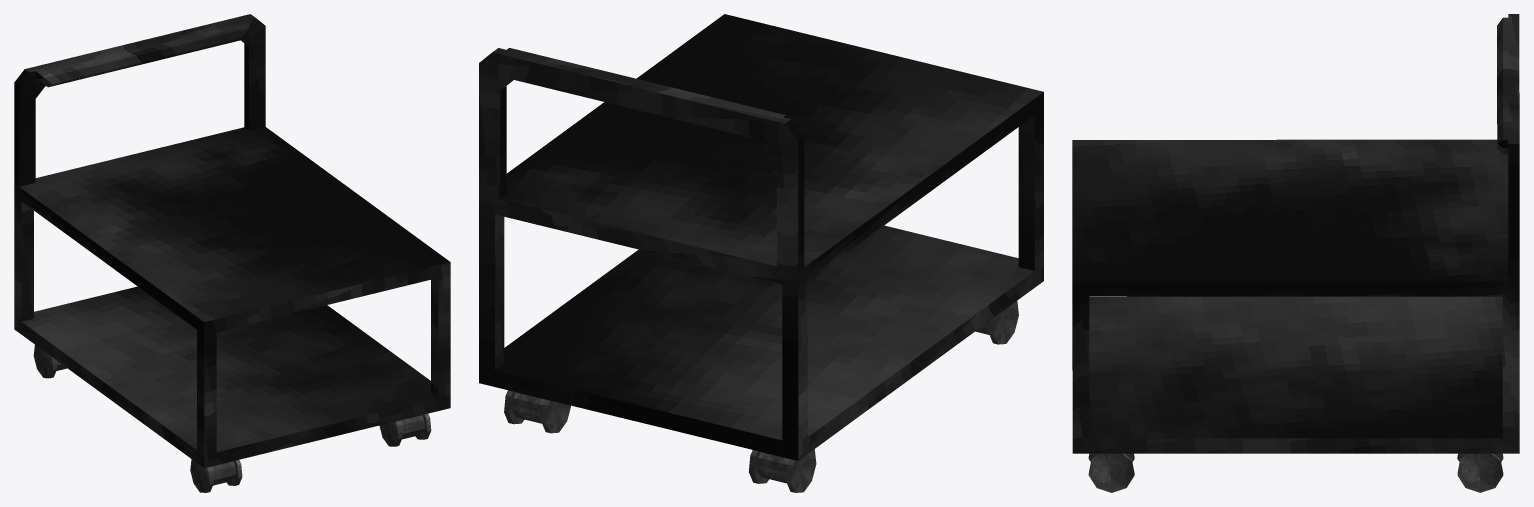
Rendered from Trolley.glb.
3 views of the same model, side by side, from view 1: azimuth 30°, elevation 25°; view 2: azimuth 150°, elevation 25°; view 3: azimuth 270°, elevation 25° (orthographic). The views are drawn at different scales.
Parts seen in each view (by area): view 1: Trolly; view 2: Trolly; view 3: Trolly.
Boxes of the visible parts, x1=… form: Trolly: x1=14, y1=14, x2=450, y2=492; Trolly: x1=479, y1=14, x2=1043, y2=492; Trolly: x1=1072, y1=14, x2=1519, y2=492.
Size of the model in its own units: 4.6 by 5.3 by 6.13.
1 material, 1 textured.
